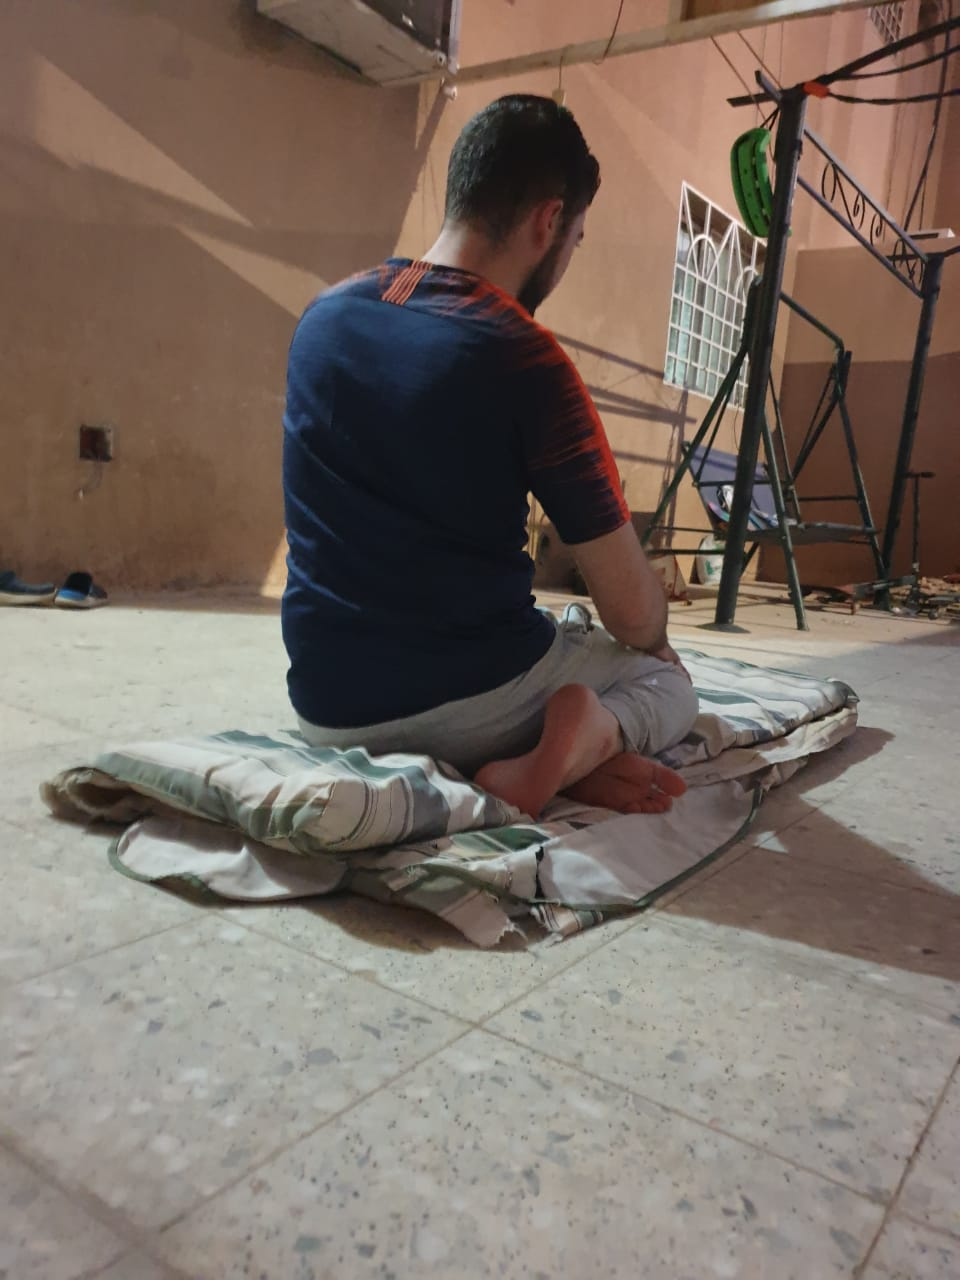sitting: (200, 83, 729, 819)
